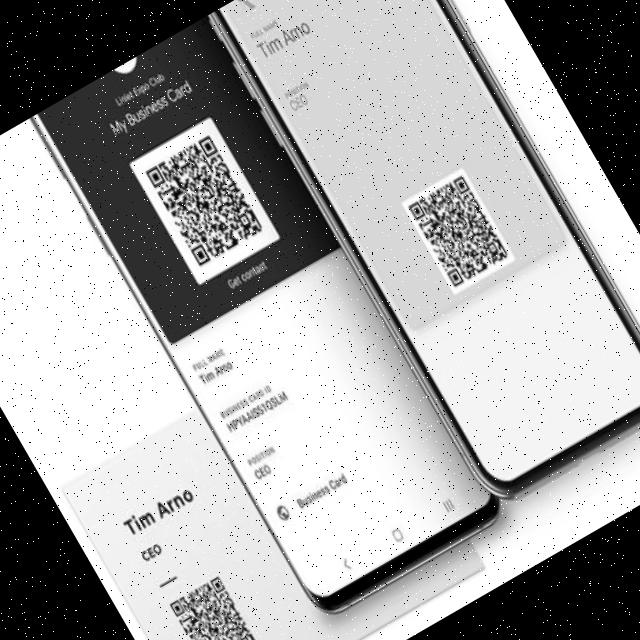QR-codes: (143, 132, 265, 268), (404, 169, 511, 289), (167, 572, 262, 640)
